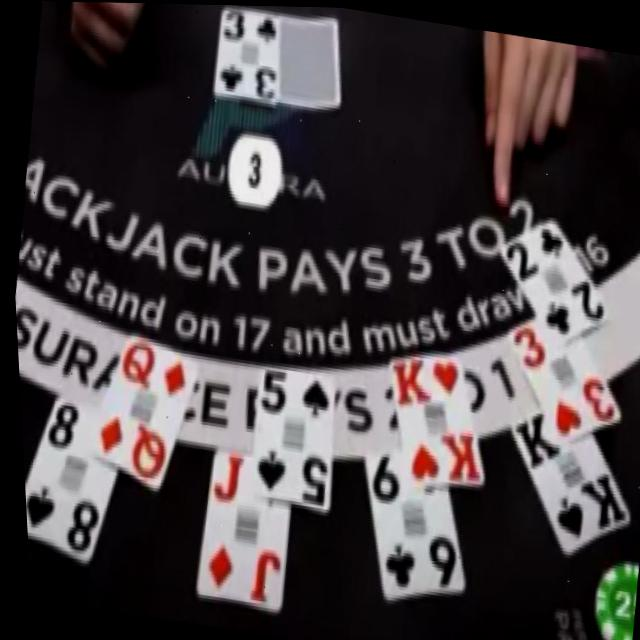Card-2: (498, 213, 609, 348)
Card-3: (504, 316, 618, 440), (213, 4, 279, 100)
Card-5: (245, 362, 332, 512)
Card-6: (360, 447, 459, 599)
Card-8: (20, 389, 114, 563)
Card-J: (190, 448, 286, 612)
Card-K: (507, 404, 626, 555), (386, 351, 478, 487)
Card-Q: (88, 331, 197, 491)
